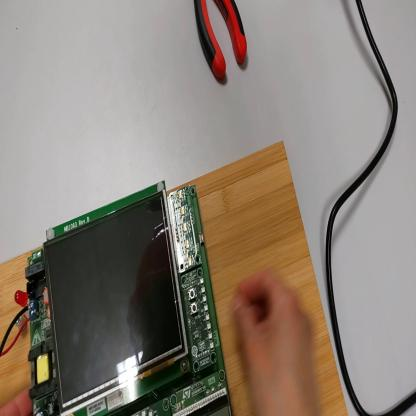hand: (235, 268, 321, 416), (3, 383, 34, 413)
low voltage board: (2, 180, 234, 416)
pliers: (196, 2, 249, 80)
working area: (2, 141, 348, 414)
